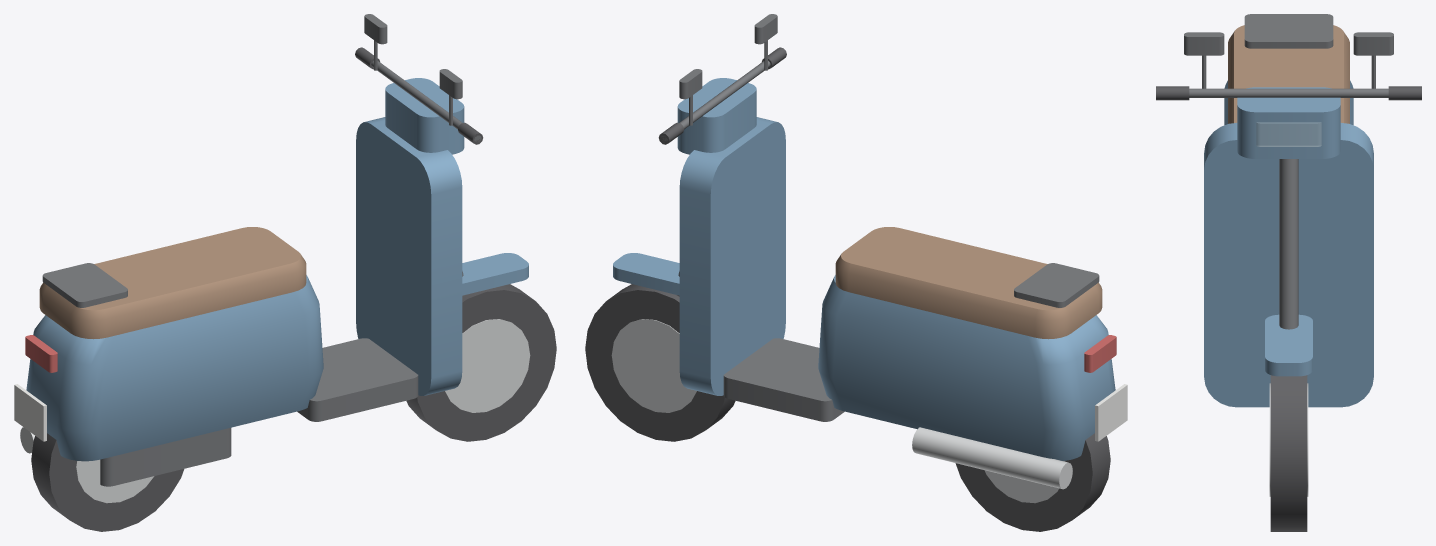
3 renders of one model, left to right at view 1: azimuth 30°, elevation 25°; view 2: azimuth 150°, elevation 25°; view 3: azimuth 270°, elevation 25°, orthographic. The views are drawn at different scales.
Visible parts, largest first — view 1: Xe máy; view 2: Xe máy; view 3: Xe máy.
Part boxes in pixels (box(x1,y1,x2,y2)): Xe máy: box(14, 14, 556, 531); Xe máy: box(585, 14, 1127, 531); Xe máy: box(1156, 14, 1421, 531).
Size of the model in its own units: 1.84 by 1.36 by 0.72.
